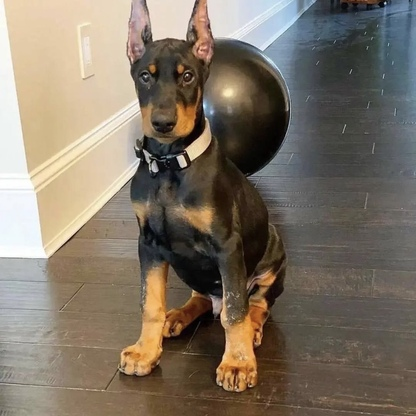doberman: (121, 1, 286, 397)
